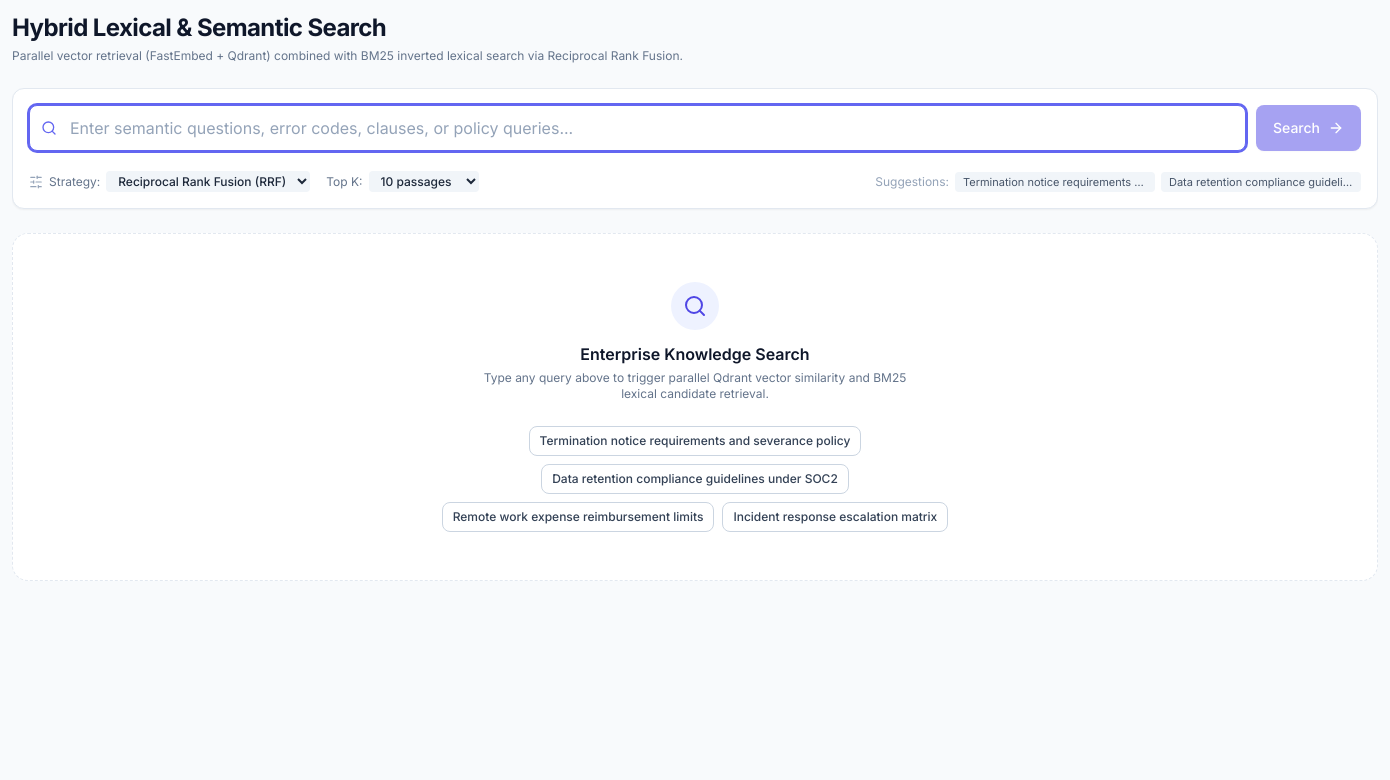
SearchPage component › renders search input and displays hybrid results when search is performed
Replace the text in the field with placeholder "Enter semantic questions" with "severance pay" at (638, 128), box [29,105,1246,151]
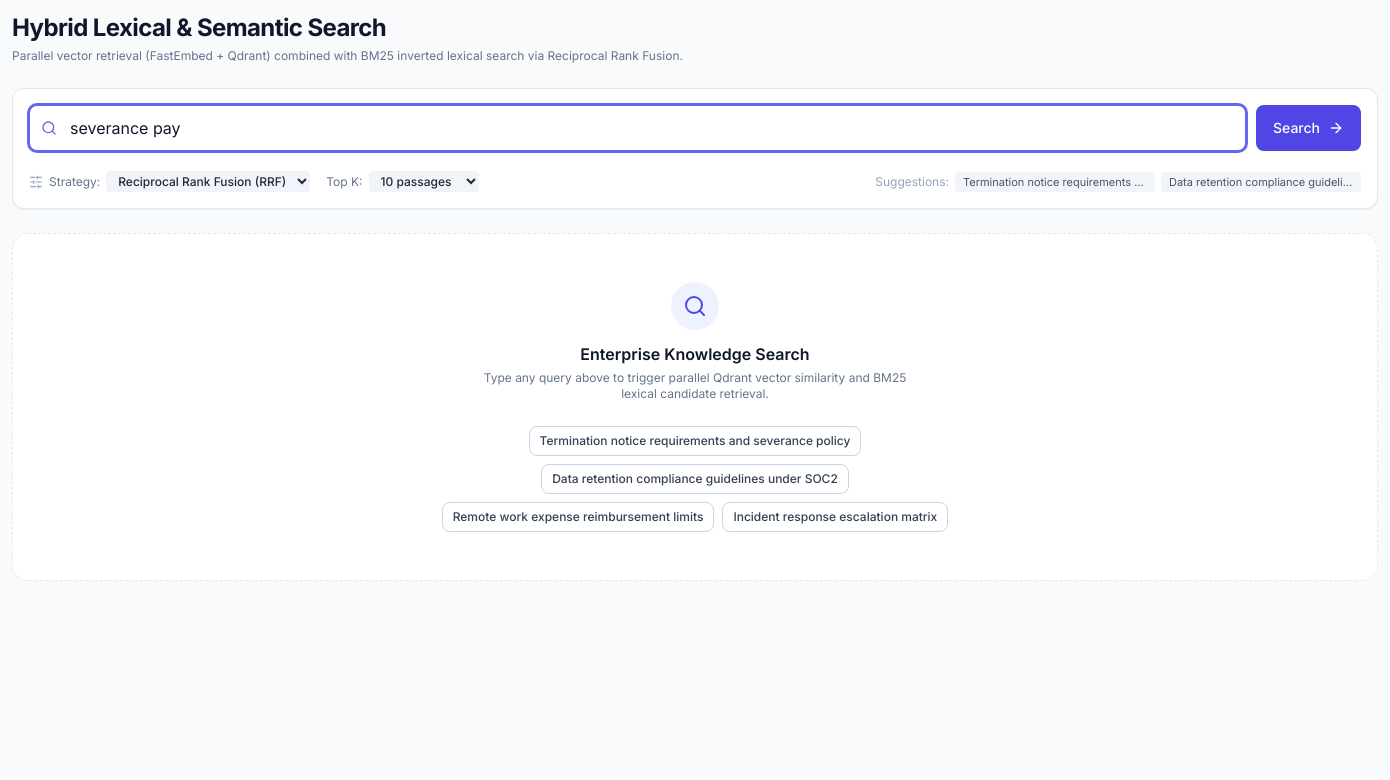
Click the button "Search" at (1308, 128), box [1256,105,1361,151]
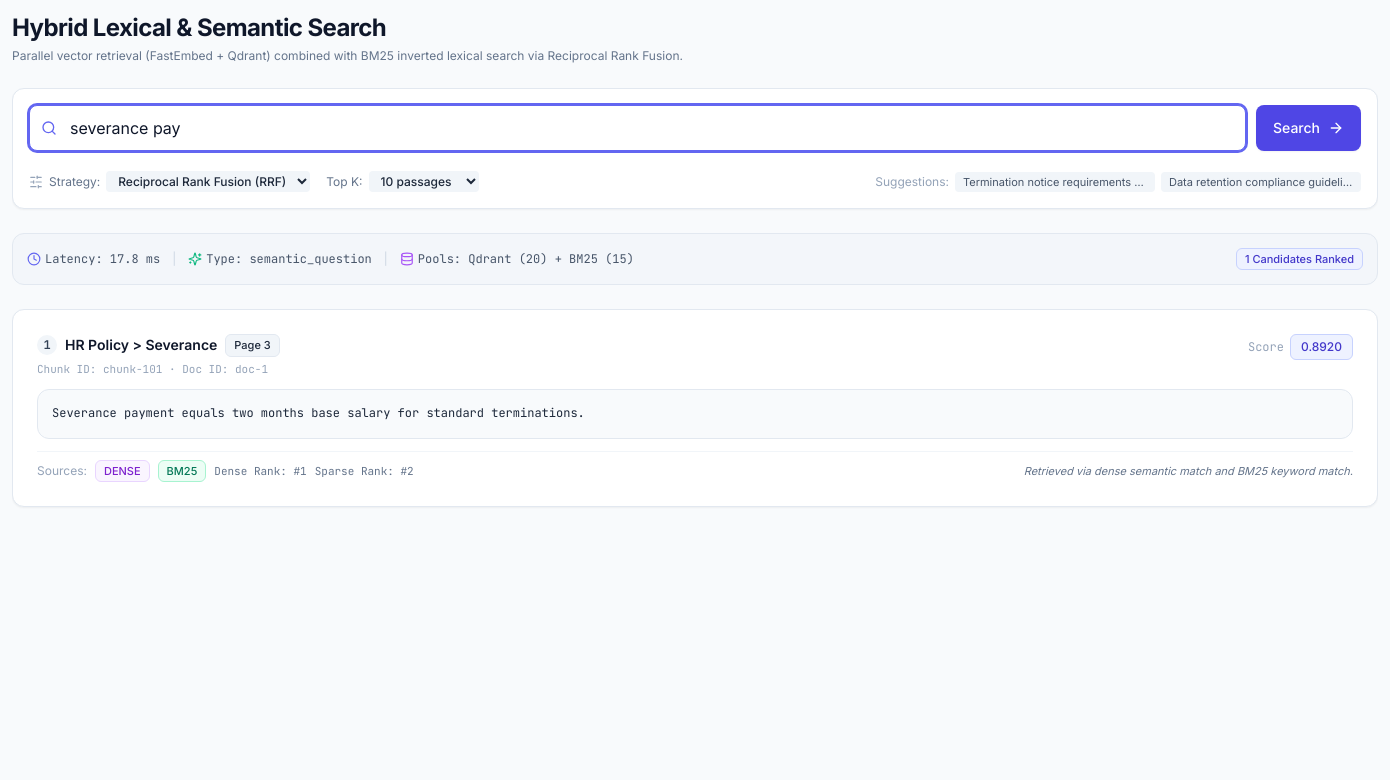
Result: the text "Severance payment equals two months base salary" is shown at [52,405,585,421]
Result: the text "HR Policy > Severance" is shown at [65,335,217,355]
Result: the text "0.8920" is shown at [1290,334,1353,360]
